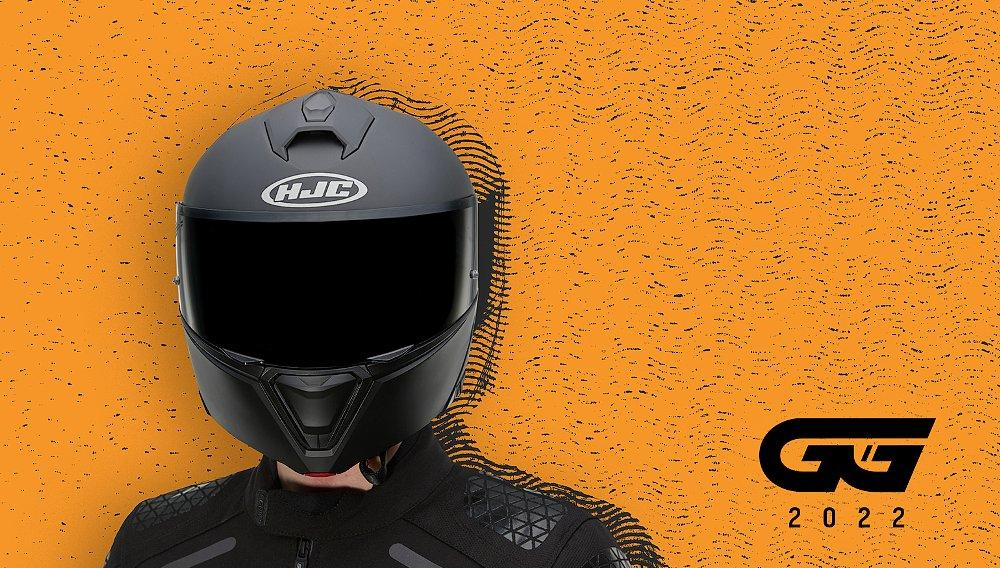Helmet: (175, 88, 495, 491)
